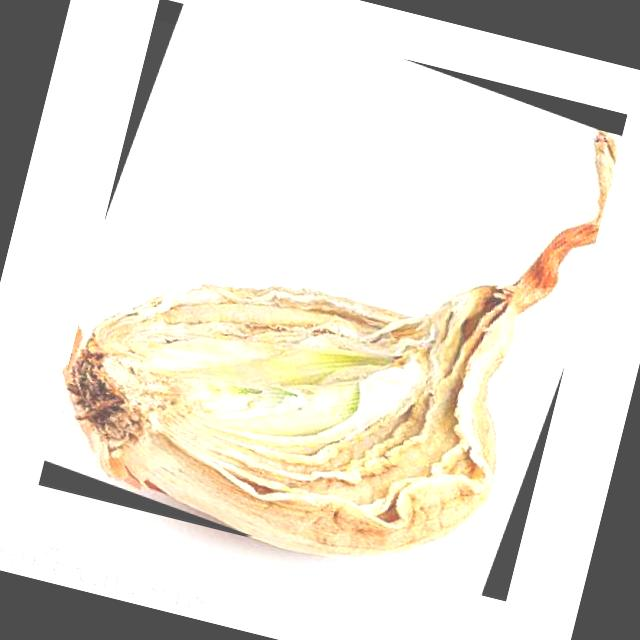rotten: (64, 131, 618, 557)
